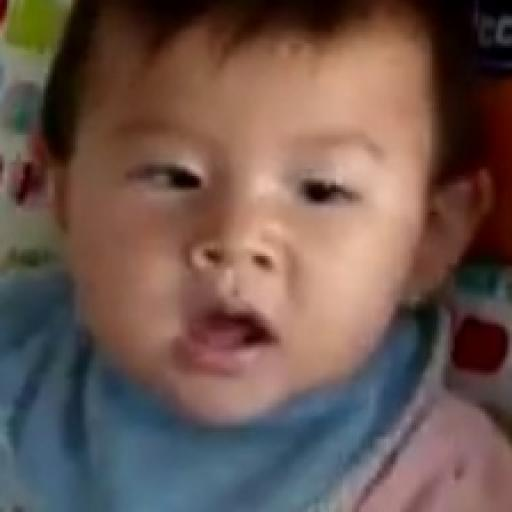Autism: (47, 0, 473, 415)
